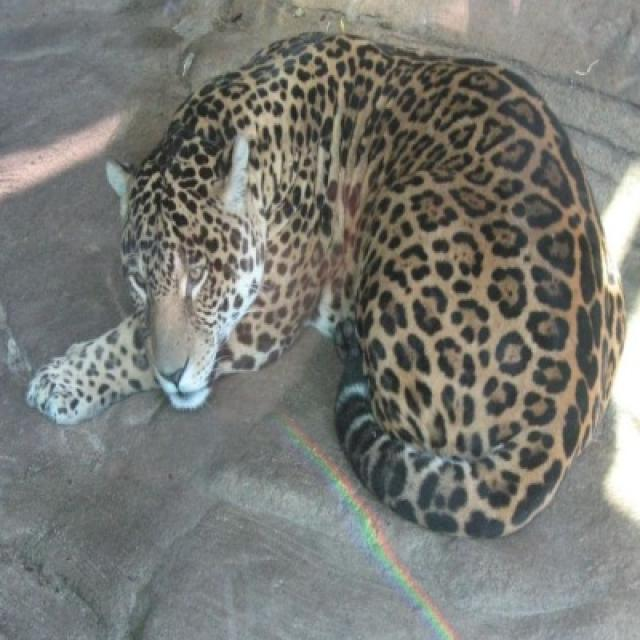Jaguar: (25, 30, 629, 539)
